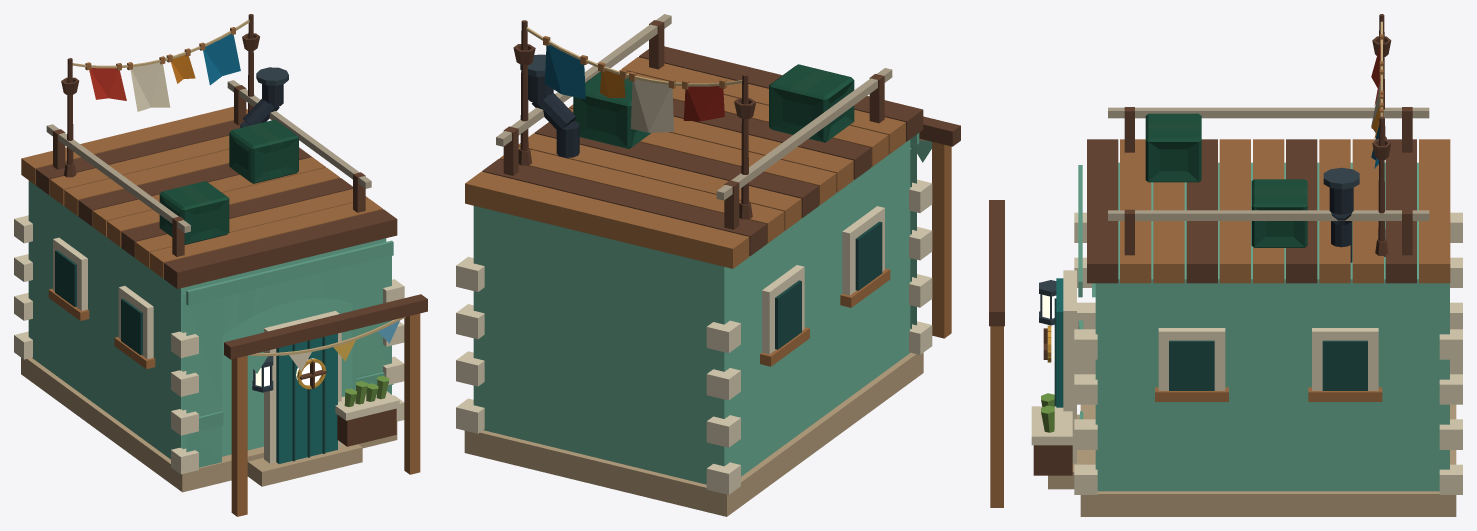
Rendered from boat-shop-small-mint.glb.
3 views of the same model, side by side, from view 1: azimuth 30°, elevation 25°; view 2: azimuth 150°, elevation 25°; view 3: azimuth 270°, elevation 25° (orthographic). The views are drawn at different scales.
Visible parts, largest first — view 1: boat-shop-small-mint; view 2: boat-shop-small-mint; view 3: boat-shop-small-mint.
Boxes of the visible parts, x1,y1,x2,y2 form: boat-shop-small-mint: [14, 14, 427, 516]; boat-shop-small-mint: [456, 14, 960, 516]; boat-shop-small-mint: [989, 14, 1462, 516].
Size of the model in its own units: 2.84 by 4.06 by 4.48.
